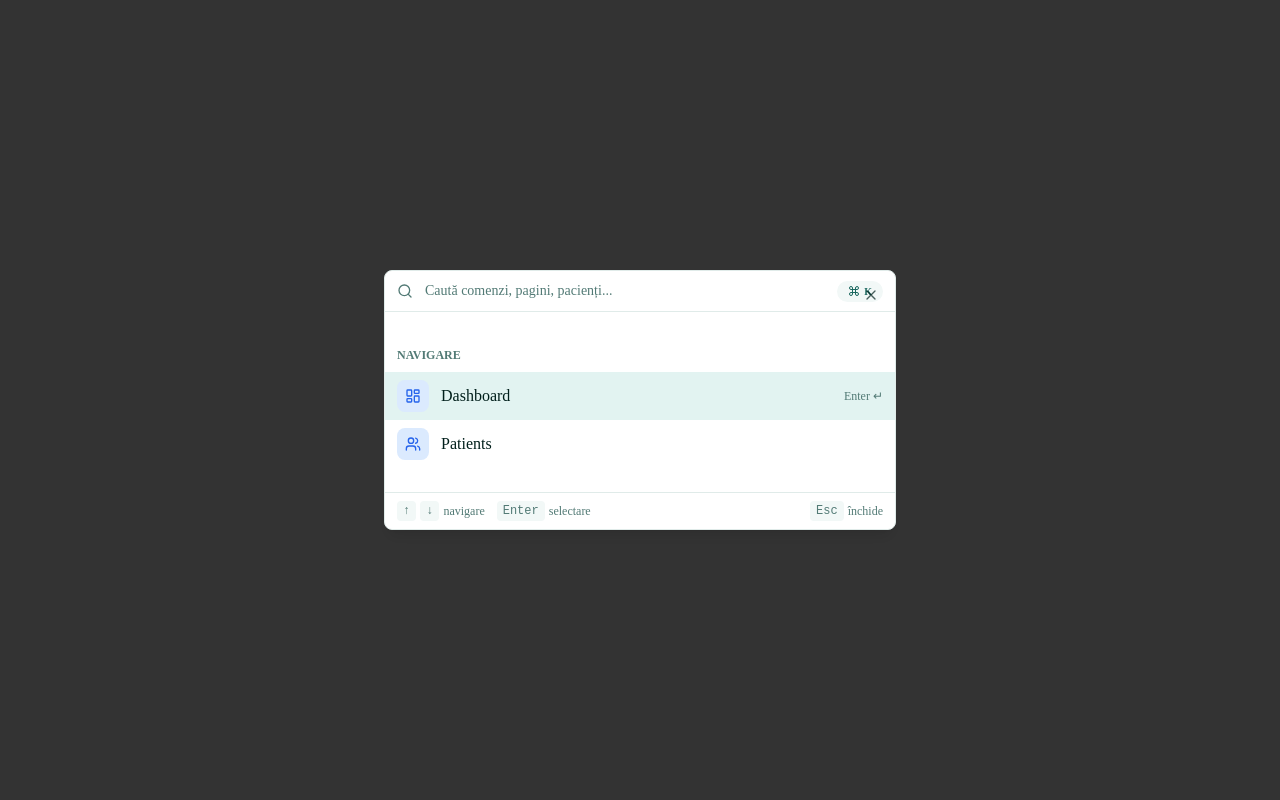
Test: CommandPalette › should search patients by phone
Type "+40123" into the field with placeholder "Caută comenzi, pagini, pacienți...". click: (625, 291)
box: [413,271,837,311]
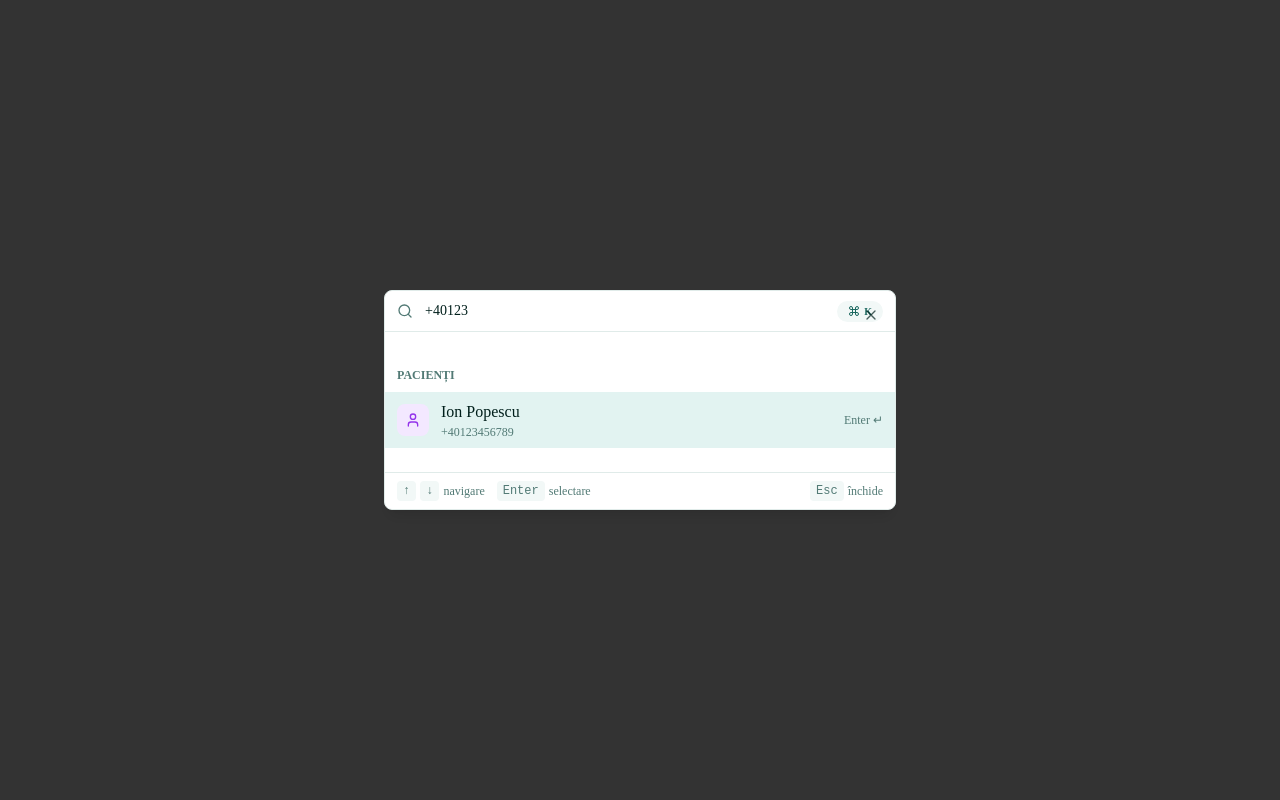
Expected: the text "Ion Popescu" is shown, [441,403,520,420]
